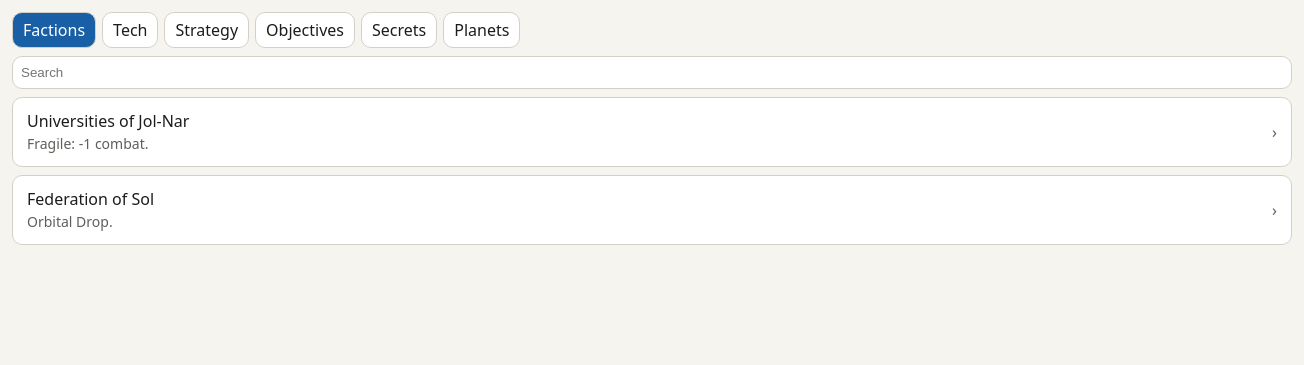
Test case: ReferenceBrowser › groups the objectives tab by stage
Click the button "Objectives". click: (305, 30)
box: [255, 12, 355, 48]
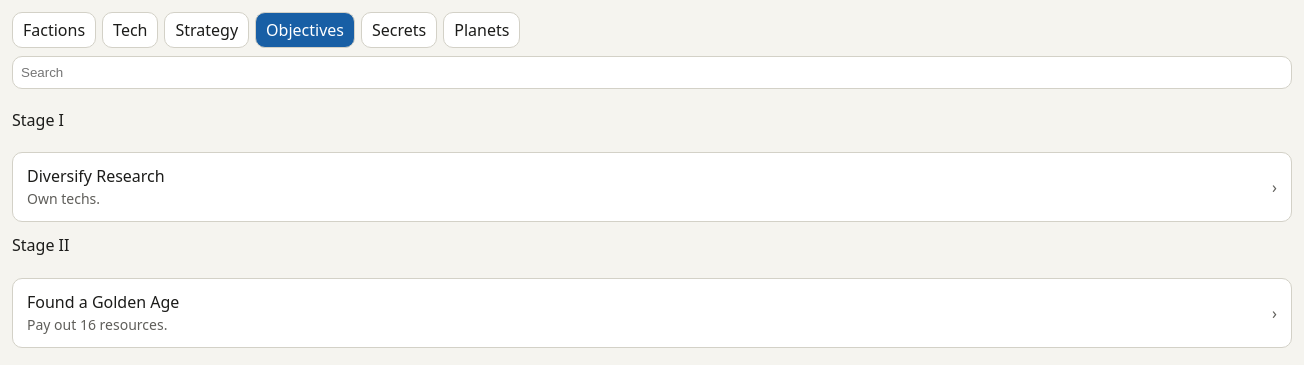
Check: the heading "Stage I" is shown, box [12, 109, 64, 131]
Check: the heading "Stage II" is shown, box [12, 234, 69, 256]
Check: the text "Diversify Research" is shown, box [27, 165, 165, 187]
